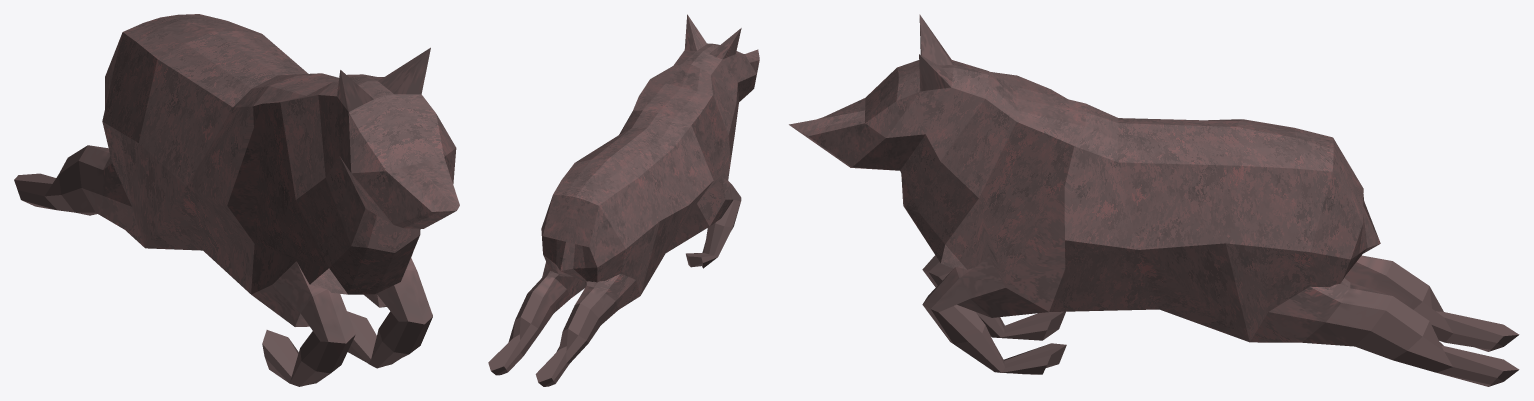
File: piesblendtex_000019.obj
The picture shows the model from 3 angles, left to right: view 1: azimuth 30°, elevation 25°; view 2: azimuth 150°, elevation 25°; view 3: azimuth 270°, elevation 25°; orthographic projection. The views are drawn at different scales.
Visible parts, largest first — view 1: Cube; view 2: Cube; view 3: Cube.
Part boxes in pixels (<box>): Cube: <box>14,14,459,386</box>; Cube: <box>488,14,759,386</box>; Cube: <box>789,14,1519,386</box>.
Size of the model in its own units: 2.56 by 5.61 by 11.1.
